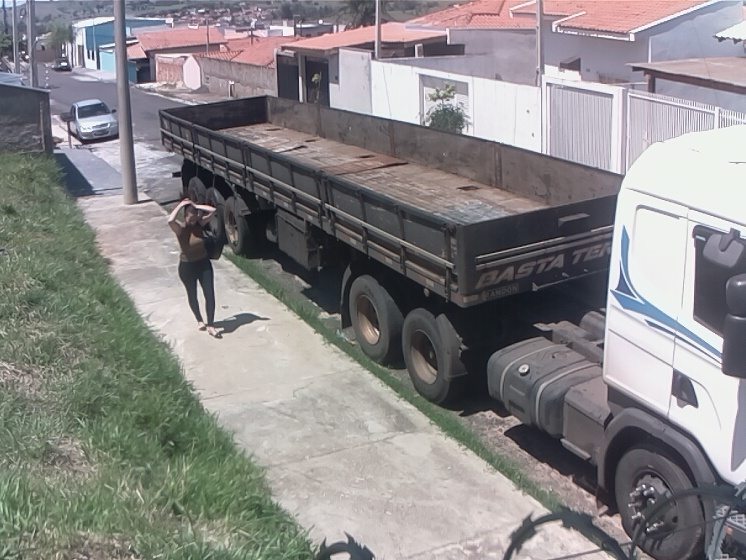person: (166, 192, 231, 341)
